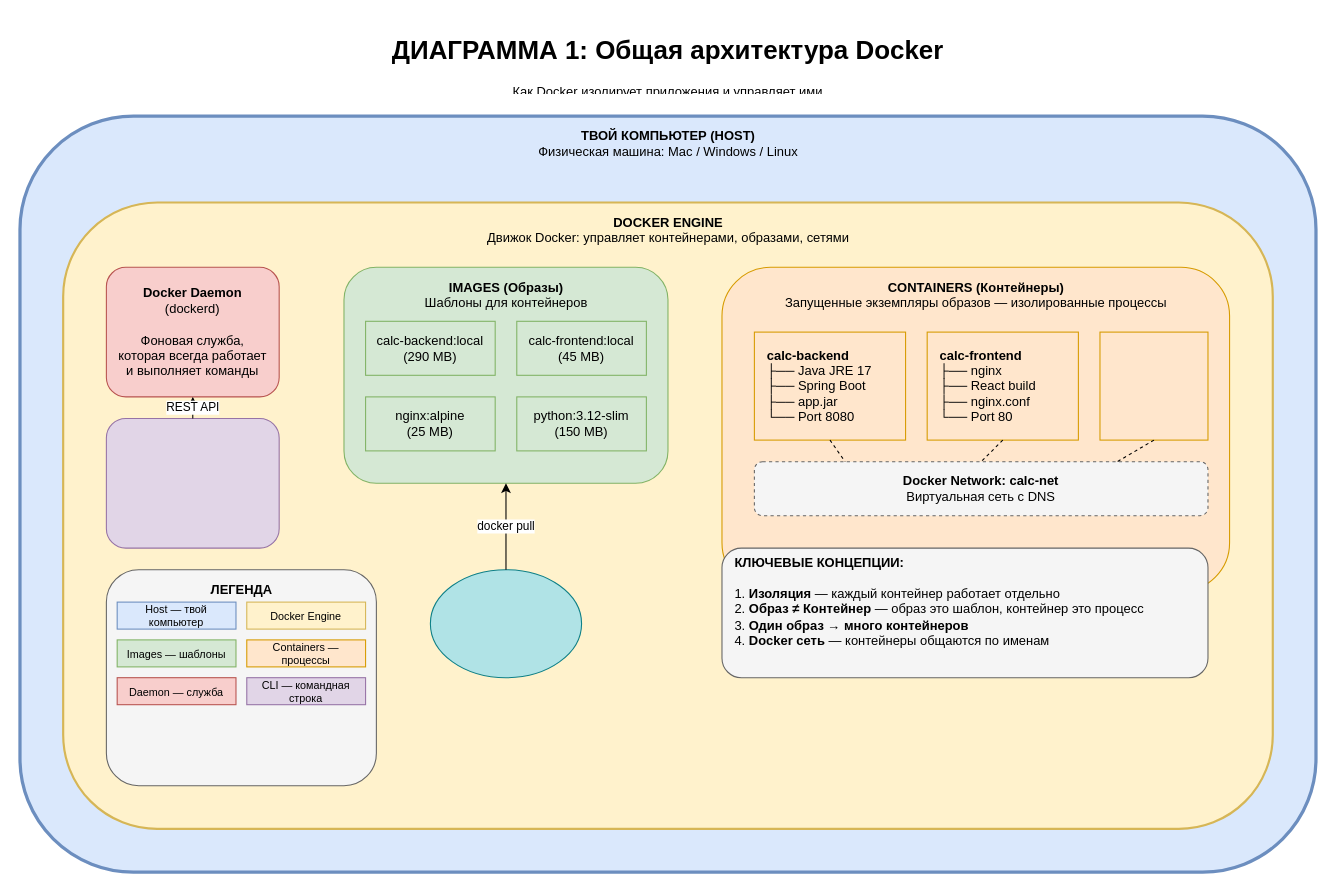
This 1336x892 diagram has some shape labels left out. Here are the shapes that lost their labels. From the top down, the centre of each, then its label:
pixel 1153 385: calc-tests ├── Python 3.12 ├── pytest ├── selenium └── тесты
pixel 192 482: Docker CLI docker build docker run docker ps docker stop
pixel 505 623: Docker Hub (Интернет) Публичное хранилище образов
